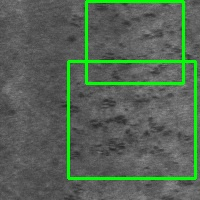rolled-in_scale: (68, 61, 195, 178), (86, 1, 183, 83)
